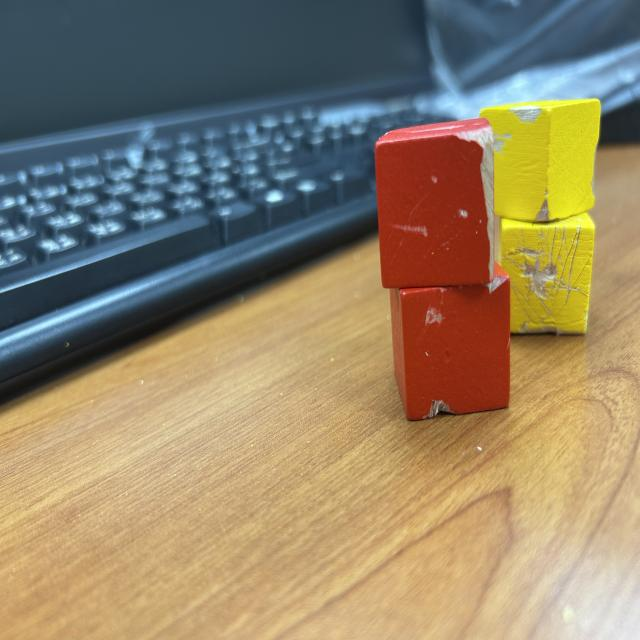broken: (374, 117, 495, 289), (389, 261, 510, 421), (479, 97, 602, 224), (500, 211, 596, 336)
